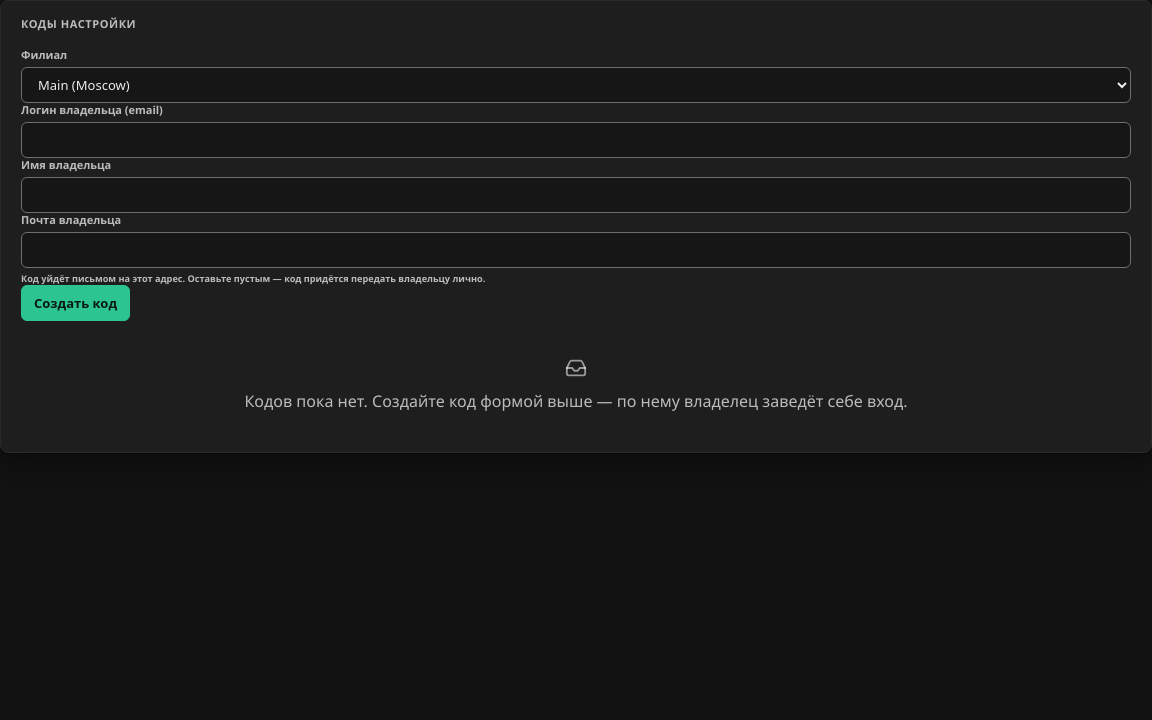
Test case: creates a code and reveals the full code
The image size is (1152, 720).
Expected: the text "Кодов пока нет. Создайте код формой выше — по нему владелец заведёт себе вход." is shown, [244, 390, 908, 412]
Click the button "Создать код": click(76, 303) [21, 285, 130, 321]
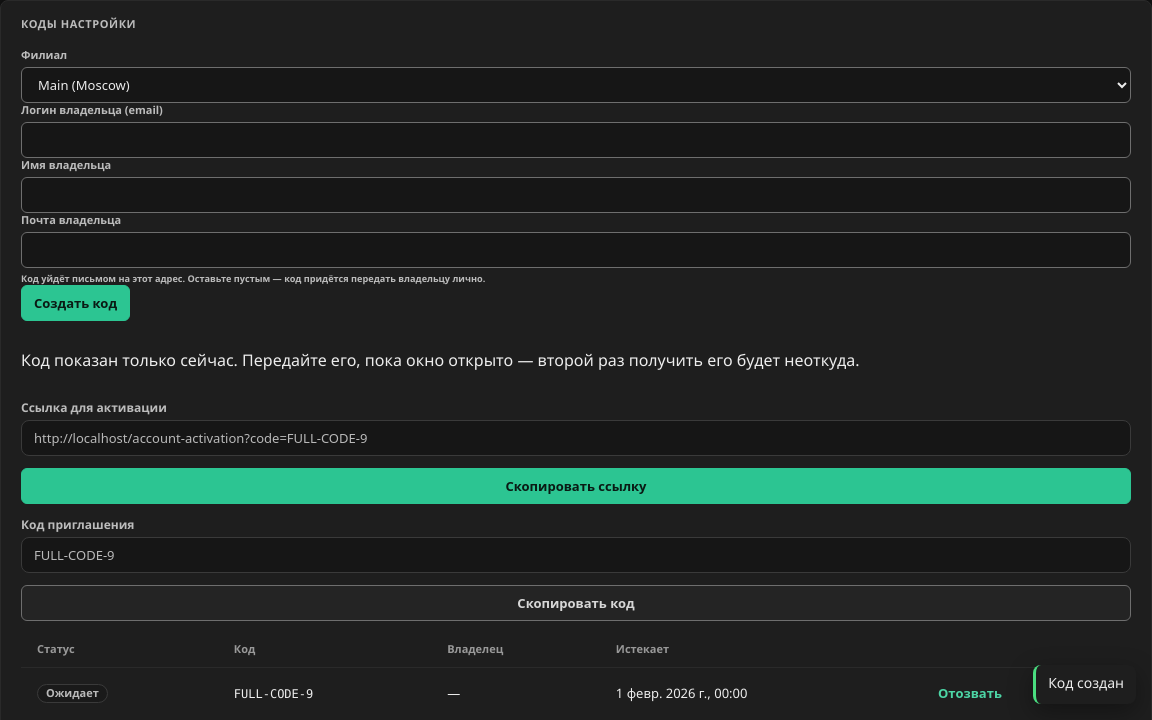
Now the text "FULL-CODE-9" is shown, box [234, 687, 313, 701]
